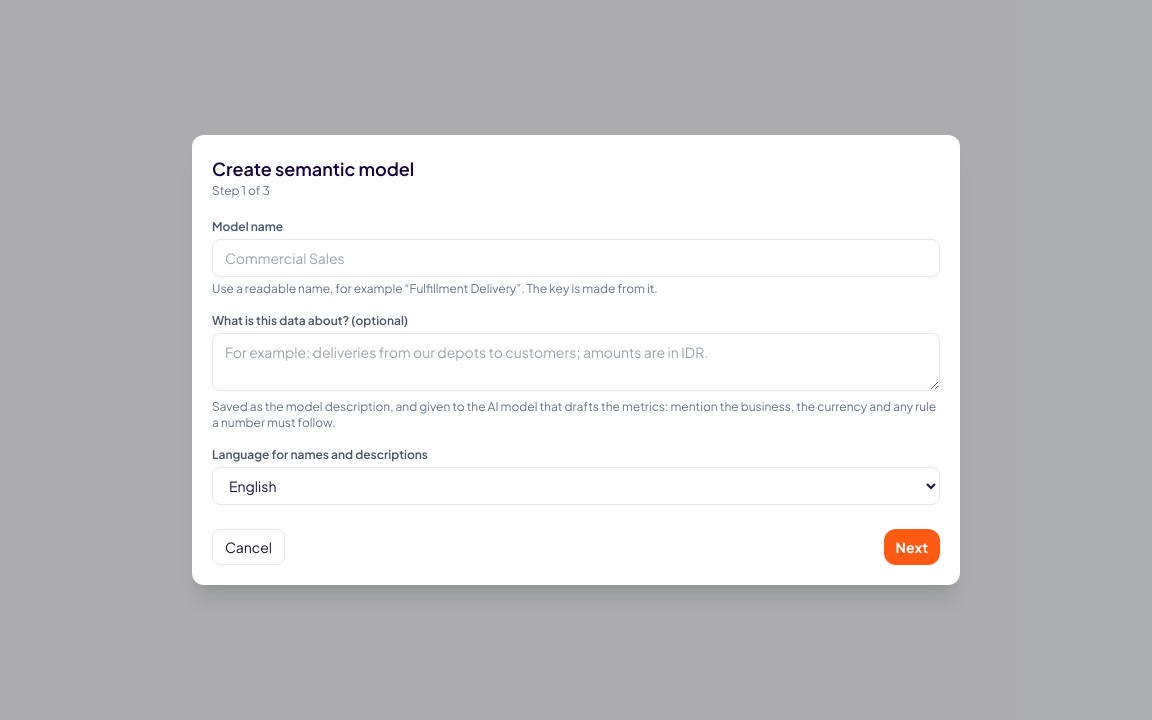
it: wizard step 1: the model name › explains the key, tidies a key-like name when you leave the field, and shows the key that will be used
The width and height of the screenshot is (1152, 720).
Expected: the text with test id "wizard-key-hint" shows "readable name", x1=212 y1=281 x2=658 y2=296
Type "fulfillment_delivery" into the field with placeholder "Commercial Sales". click: (576, 258)
box: x1=212 y1=239 x2=940 y2=277
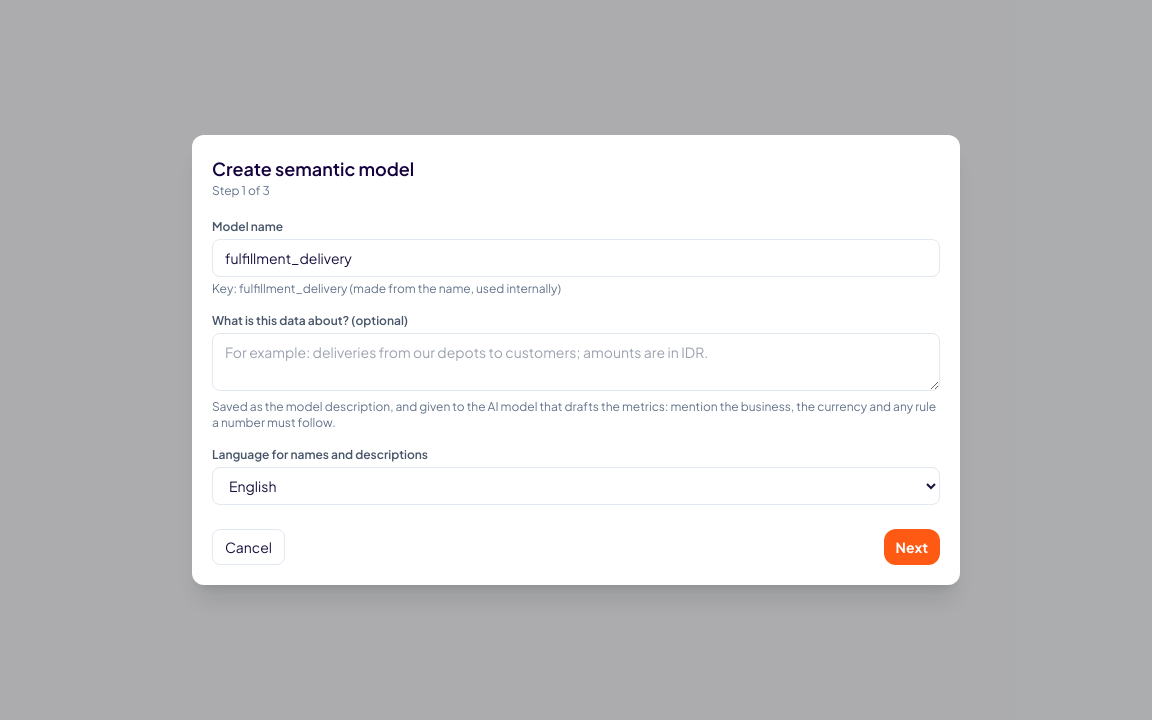
Expected: the text with test id "wizard-key-hint" reads "Key: fulfillment_delivery (made from the name, used internally)", x1=212 y1=281 x2=561 y2=296
Leave the field with placeholder "Commercial Sales", box x1=212 y1=239 x2=940 y2=277
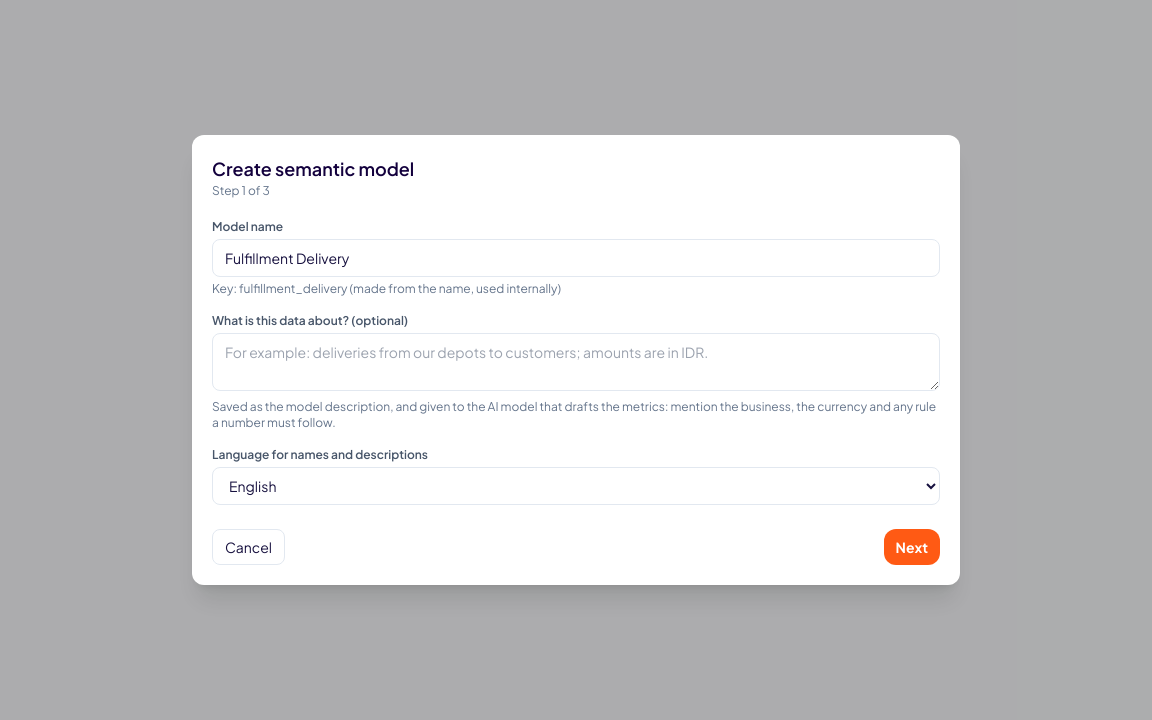
Expected: the text with test id "wizard-key-hint" shows "Key: fulfillment_delivery", x1=212 y1=281 x2=561 y2=296
Expected: the field with placeholder "Commercial Sales" holds "Fulfillment Delivery", x1=212 y1=239 x2=940 y2=277
